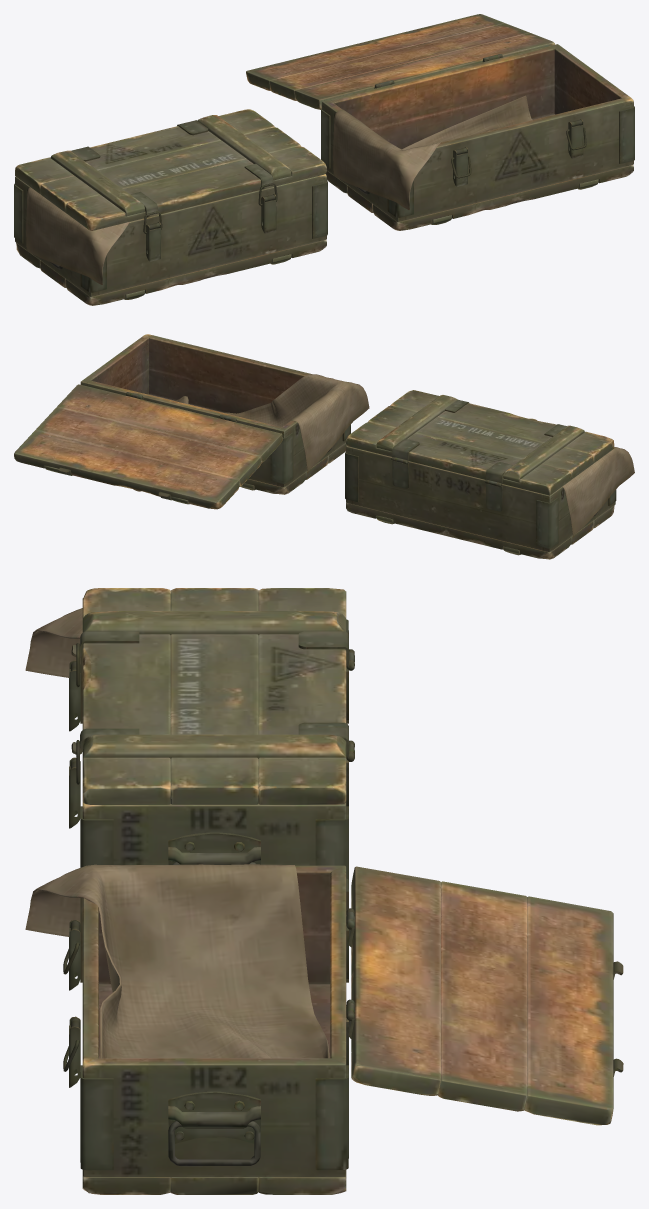
Rendered from old_military_crate.glb.
3 views of the same model, one above another, from view 1: azimuth 30°, elevation 25°; view 2: azimuth 150°, elevation 25°; view 3: azimuth 270°, elevation 25° (orthographic). The views are drawn at different scales.
Visible parts, largest first — view 1: old_military_crate_lid_a; view 2: old_military_crate_lid_a; view 3: old_military_crate_lid_a.
Part boxes in pixels (left/top/right/bottom): old_military_crate_lid_a: left=14, top=14, right=634, bottom=305; old_military_crate_lid_a: left=14, top=334, right=634, bottom=559; old_military_crate_lid_a: left=25, top=588, right=623, bottom=1194.
Size of the model in its own units: 1.82 by 0.3009 by 0.9756.
1 material, 1 textured.
